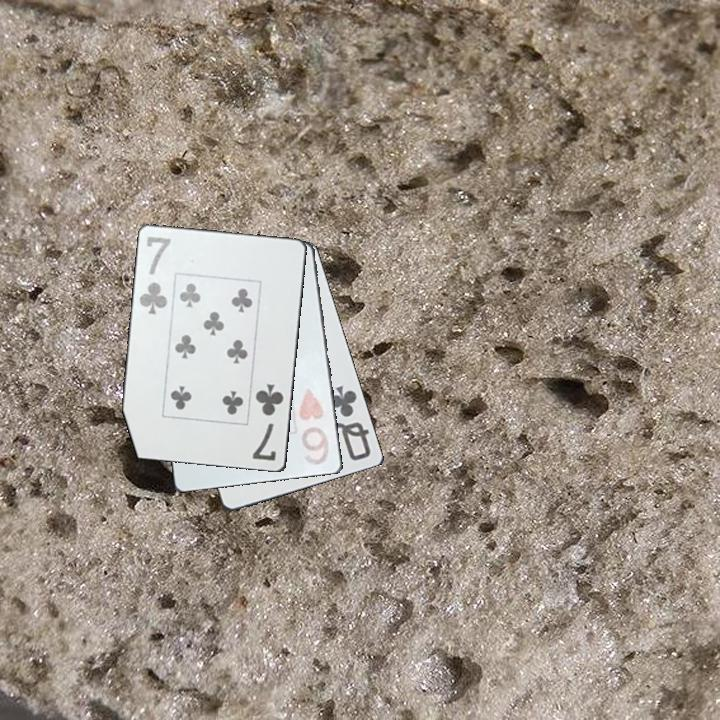6h: (296, 384, 334, 468)
7c: (136, 233, 174, 318), (249, 380, 287, 464)
Qc: (326, 382, 374, 464)
